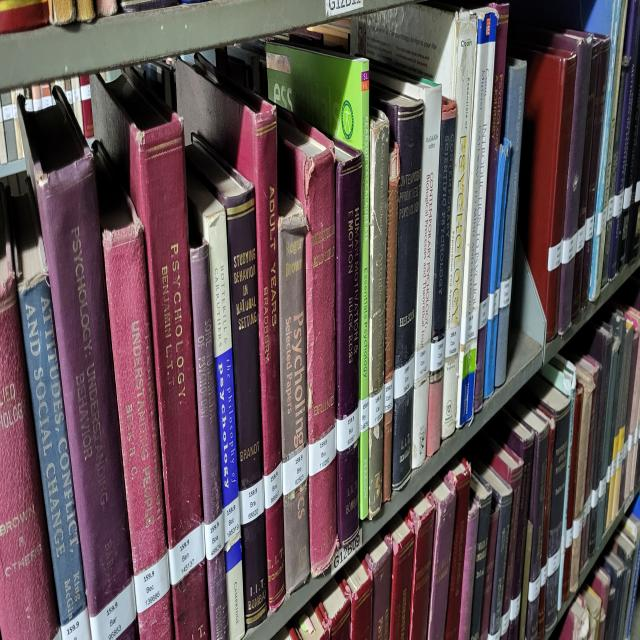Book: (90, 70, 209, 639), (19, 87, 136, 639), (176, 57, 285, 611), (186, 135, 268, 628), (266, 16, 370, 400), (95, 141, 172, 639), (11, 187, 91, 639), (278, 108, 338, 576), (188, 170, 245, 639), (0, 195, 60, 639), (380, 76, 441, 468), (370, 84, 424, 490), (456, 8, 496, 427), (441, 11, 478, 441), (190, 238, 229, 639), (279, 192, 310, 595), (334, 143, 362, 547), (426, 97, 456, 455), (480, 5, 509, 303), (369, 108, 389, 519), (491, 143, 510, 279), (456, 338, 476, 427), (484, 284, 499, 398), (471, 257, 474, 265), (92, 519, 94, 522)
Label: (90, 579, 136, 639), (169, 522, 205, 587), (134, 552, 170, 614), (309, 425, 336, 476), (282, 446, 309, 495), (239, 479, 265, 525), (204, 511, 225, 560), (336, 409, 359, 452), (394, 357, 415, 400), (224, 495, 240, 547), (264, 463, 282, 509), (414, 344, 431, 381), (369, 387, 384, 427), (430, 338, 445, 373), (384, 376, 394, 414), (359, 398, 369, 433)
